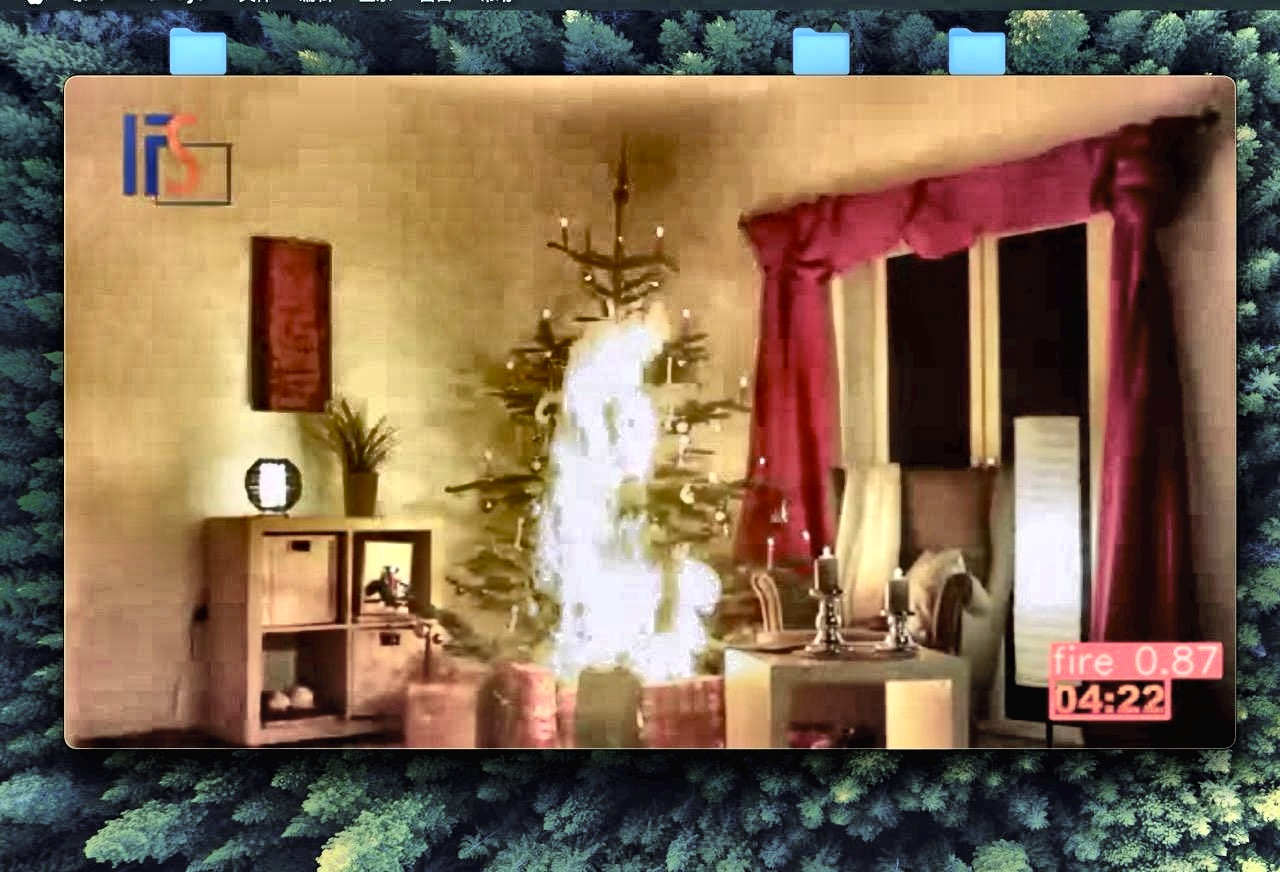fire: (502, 248, 770, 699)
